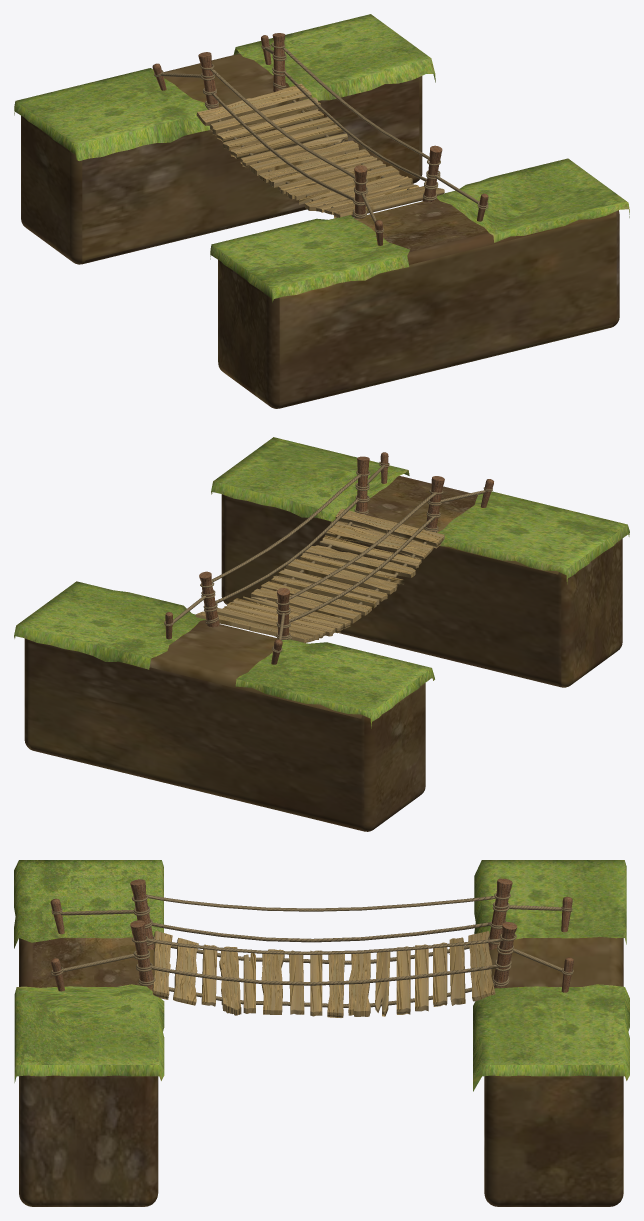
The model's file is rope_bridge.glb.
The picture shows the model from 3 angles, top to bottom: view 1: azimuth 30°, elevation 25°; view 2: azimuth 150°, elevation 25°; view 3: azimuth 270°, elevation 25°; orthographic projection. The views are drawn at different scales.
Parts seen in each view (by area): view 1: pCube23, pCube22, pPlane6, pPlane7, pPlane8, pPlane9, woodenplank8, pCube9, pPlane5, pCube5, pCube7, pPlane4 (+15 smaller); view 2: pCube22, pCube23, pPlane7, pPlane8, pPlane6, pPlane9, woodenplank5, woodenplank4, pPlane4, woodenplank6, pPlane5, pCube3 (+15 smaller); view 3: pCube23, pCube22, pPlane8, pPlane9, pPlane7, pPlane6, pCube16, pCube20, pCube18, pCube19, woodenplank8, pPlane5 (+18 smaller).
Boxes of the visible parts, <box> form: pCube23: <box>218,198,619,408</box>; pCube22: <box>21,53,422,264</box>; pPlane6: <box>14,68,209,160</box>; pPlane7: <box>210,215,409,302</box>; pPlane8: <box>233,14,435,101</box>; pPlane9: <box>437,158,629,242</box>; woodenplank8: <box>196,83,311,125</box>; pCube9: <box>210,97,320,135</box>; pPlane5: <box>249,140,358,175</box>; pCube5: <box>230,124,343,158</box>; pCube7: <box>217,109,323,142</box>; pPlane4: <box>286,166,399,200</box>; pCube22: <box>24,620,425,831</box>; pCube23: <box>221,476,622,687</box>; pPlane7: <box>437,491,629,584</box>; pPlane8: <box>14,581,205,669</box>; pPlane6: <box>235,639,434,728</box>; pPlane9: <box>211,437,409,521</box>; woodenplank5: <box>325,521,433,559</box>; woodenplank4: <box>335,508,444,548</box>; pPlane4: <box>286,559,397,594</box>; woodenplank6: <box>303,545,415,577</box>; pPlane5: <box>251,587,361,623</box>; pCube3: <box>319,535,421,568</box>; pCube23: <box>19,937,158,1206</box>; pCube22: <box>484,937,623,1206</box>; pPlane8: <box>473,984,629,1091</box>; pPlane9: <box>14,984,164,1082</box>; pPlane7: <box>14,860,163,948</box>; pPlane6: <box>474,860,626,944</box>; pCube16: <box>151,964,509,985</box>; pCube20: <box>152,922,490,942</box>; pCube18: <box>146,938,503,954</box>; pCube19: <box>146,895,496,911</box>; woodenplank8: <box>468,931,495,1001</box>; pPlane5: <box>348,953,370,1016</box>.
Size of the model in its own units: 36.21 by 16.89 by 44.96.
Materials: 5 (5 with a texture image).
